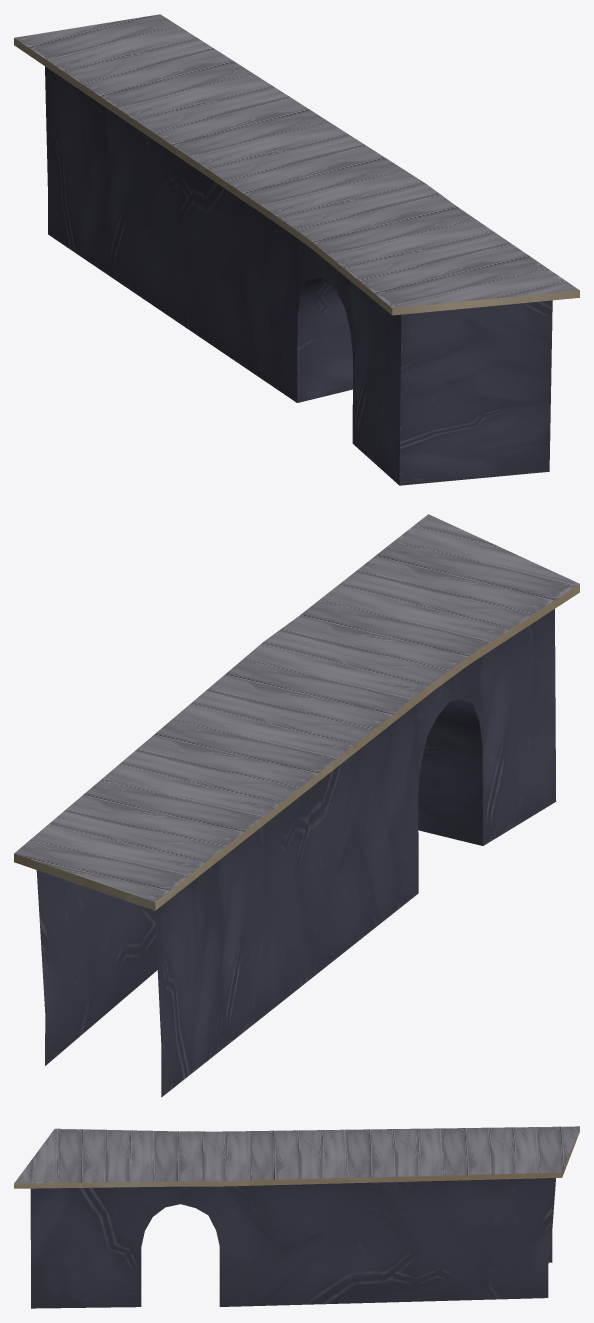
Rendered from newarchcan.fbx.
3 views of the same model, one above another, from view 1: azimuth 30°, elevation 25°; view 2: azimuth 150°, elevation 25°; view 3: azimuth 270°, elevation 25° (orthographic). The views are drawn at different scales.
Visible parts, largest first — view 1: Archway; view 2: Archway; view 3: Archway.
Boxes of the visible parts, x1,y1,x2,y2 form: Archway: (14,14,579,485); Archway: (14,514,579,1097); Archway: (14,1126,579,1308).
Bounding box in the file's own units: 400 × 429 × 1674.
